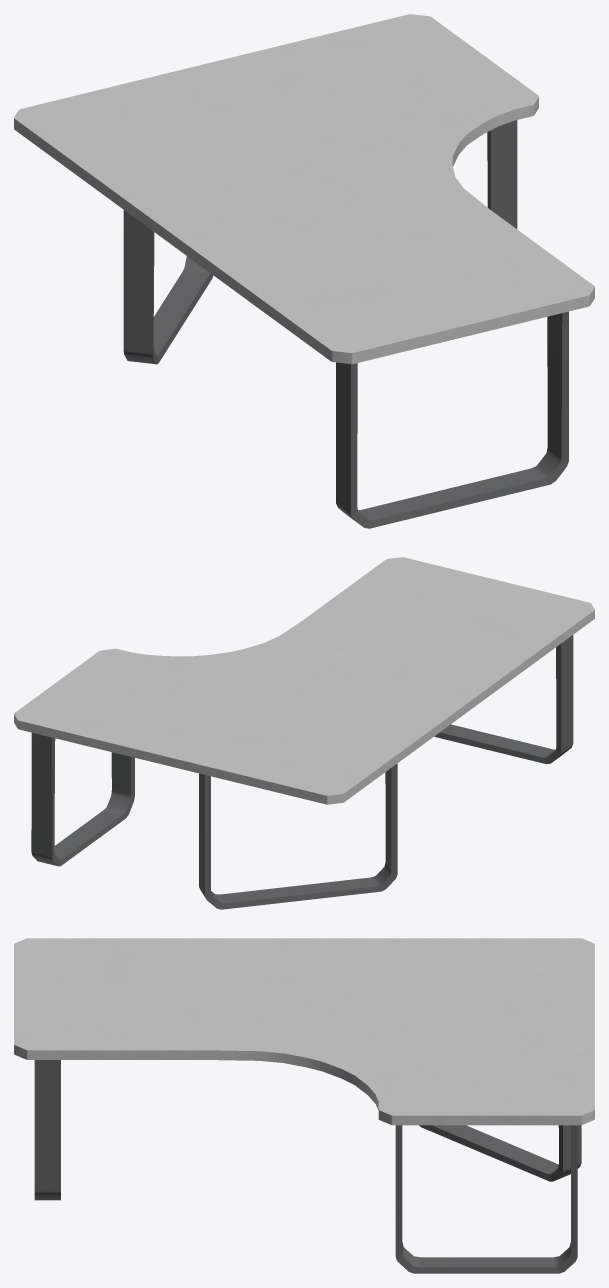
File: SM_desk_a_corner_asymmetric_250_200_r.fbx
3 views of the same model, one above another, from view 1: azimuth 30°, elevation 25°; view 2: azimuth 150°, elevation 25°; view 3: azimuth 270°, elevation 25° (orthographic). The views are drawn at different scales.
Visible parts, largest first — view 1: polySurface710, polySurface711; view 2: polySurface710, polySurface711; view 3: polySurface710, polySurface711.
Part boxes in pixels (bbox=[...]): polySurface710: bbox=[14, 14, 594, 364]; polySurface711: bbox=[123, 120, 568, 528]; polySurface710: bbox=[14, 557, 594, 804]; polySurface711: bbox=[31, 635, 573, 909]; polySurface710: bbox=[14, 938, 594, 1125]; polySurface711: bbox=[34, 1060, 581, 1273].
Size of the model in its own units: 1.71 by 0.75 by 2.37.
